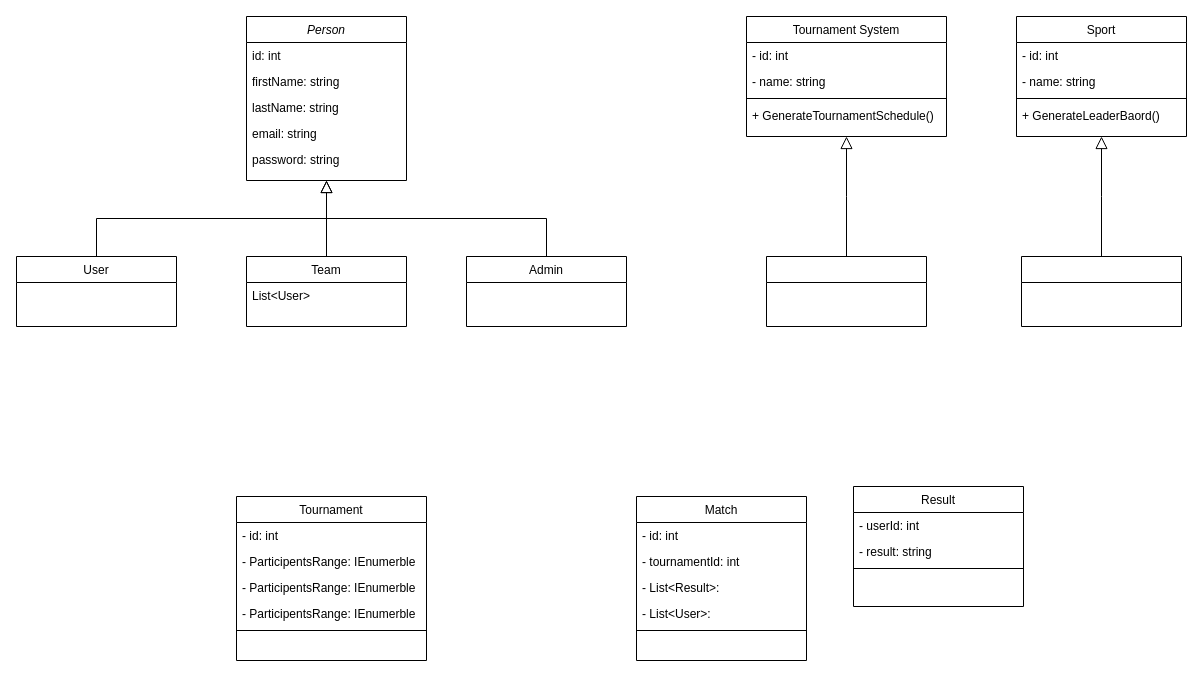
The diagram is 1203 pixels wide and 677 high, and some of its shapes have lost their labels. Here are the shapes that lost their labels. From the top down, the centre of each, then its label:
At point (846, 291): "Round Robin".
At point (1101, 291): "badminton".
